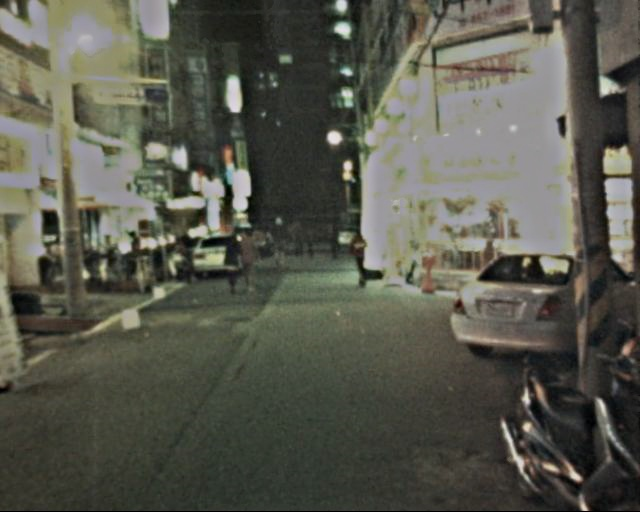person: (231, 223, 265, 292), (292, 217, 342, 262), (215, 225, 244, 292), (343, 224, 372, 287), (269, 217, 292, 266)
